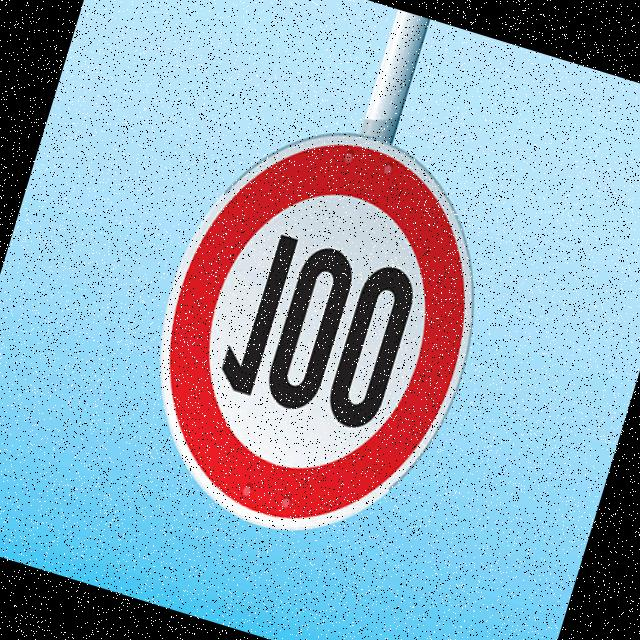speed_limit_100: (108, 88, 526, 579)
